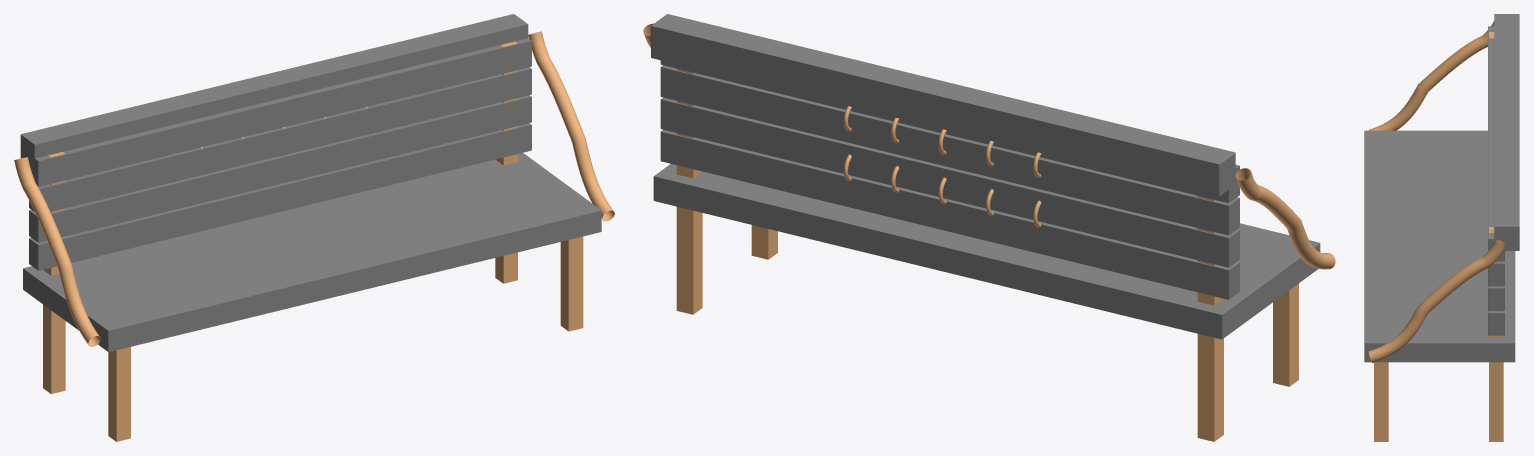
3 renders of one model, left to right at view 1: azimuth 30°, elevation 25°; view 2: azimuth 150°, elevation 25°; view 3: azimuth 270°, elevation 25°, orthographic. The views are drawn at different scales.
Parts seen in each view (by area): view 1: Cube, Cube.009, Cube.005, Cube.006, Cube.007, Cube.008, Cube.001, Cube.003, Cube.002, Cube.004, BézierCurve, BézierCurve.001 (+4 smaller); view 2: Cube.005, Cube.004, Cube.006, Cube.007, Cube.008, Cube.012, Cube.013, Cube.009, Cube.010, BézierCurve, Cube.001, Cube (+3 smaller); view 3: Cube, Cube.003, Cube.002, Cube.001, Cube.005, Cube.004, BézierCurve.001, BézierCurve, Cube.009, Cube.013, Cube.011, Cube.006 (+2 smaller).
Boxes of the visible parts, x1,y1,x2,y2 form: Cube: (90,197,601,351); Cube.009: (29,38,531,186); Cube.005: (20,14,528,171); Cube.006: (29,123,531,270); Cube.007: (29,95,531,242); Cube.008: (29,67,531,211); Cube.001: (75,184,584,330); Cube.003: (39,160,549,314); Cube.002: (56,172,567,327); Cube.004: (23,152,534,303); BézierCurve: (14,157,100,346); BézierCurve.001: (528,31,614,221); Cube.005: (651,14,1235,196); Cube.004: (653,164,1243,339); Cube.006: (660,129,1239,299); Cube.007: (660,97,1239,267); Cube.008: (660,65,1239,235); Cube.012: (1197,196,1223,441); Cube.013: (676,68,702,314); Cube.009: (660,60,1239,202); Cube.010: (1273,283,1298,386); BézierCurve: (1235,168,1335,269); Cube.001: (1239,242,1301,296); Cube: (1237,223,1320,281); Cube: (1364,130,1397,362); Cube.003: (1452,130,1485,362); Cube.002: (1423,130,1456,362); Cube.001: (1394,130,1426,362); Cube.005: (1494,14,1519,250); Cube.004: (1482,130,1515,362); BézierCurve.001: (1368,239,1506,362); BézierCurve: (1368,21,1494,130); Cube.009: (1488,26,1504,261); Cube.013: (1489,227,1503,441); Cube.011: (1374,362,1388,441); Cube.006: (1488,311,1504,335).
Bounding box in the file's own units: 2.56 × 1.17 × 0.74.
